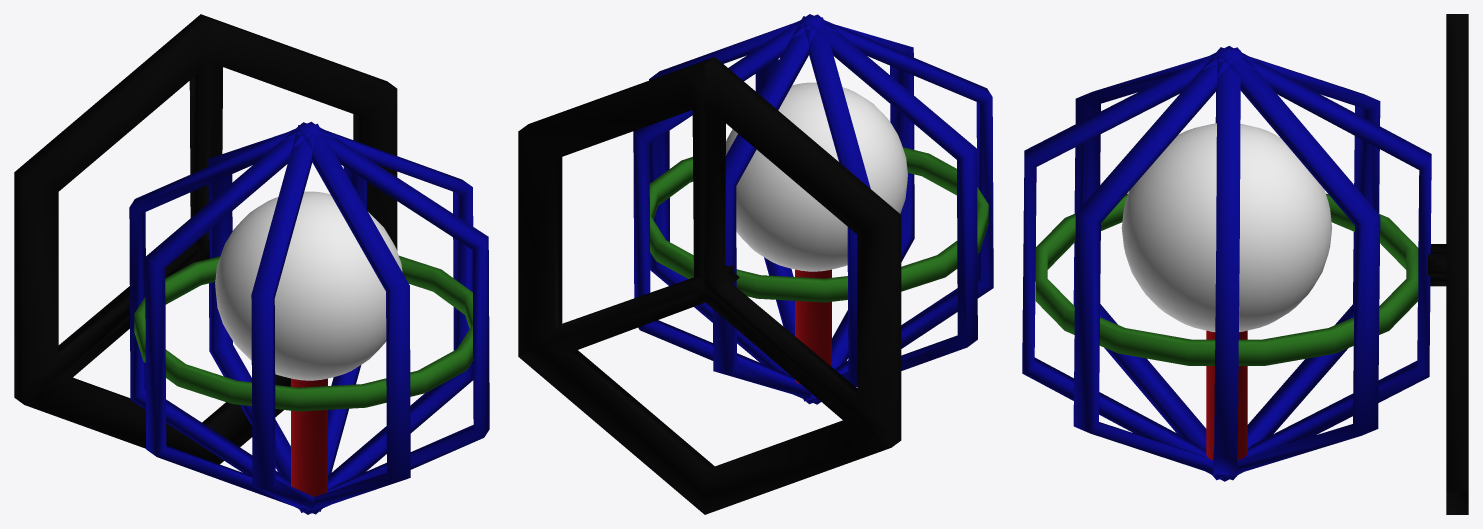
The model's file is HexCageLightFixture.glb.
3 renders of one model, left to right at view 1: azimuth 30°, elevation 25°; view 2: azimuth 150°, elevation 25°; view 3: azimuth 270°, elevation 25°, orthographic. The views are drawn at different scales.
Visible parts, largest first — view 1: HexCageLightFixture; view 2: HexCageLightFixture; view 3: HexCageLightFixture.
Boxes of the visible parts, box(x1,y1,x2,y2) form: HexCageLightFixture: box(14, 14, 489, 514); HexCageLightFixture: box(518, 14, 993, 514); HexCageLightFixture: box(1022, 14, 1468, 514).
Size of the model in its own units: 1.41 by 1.63 by 1.31.
